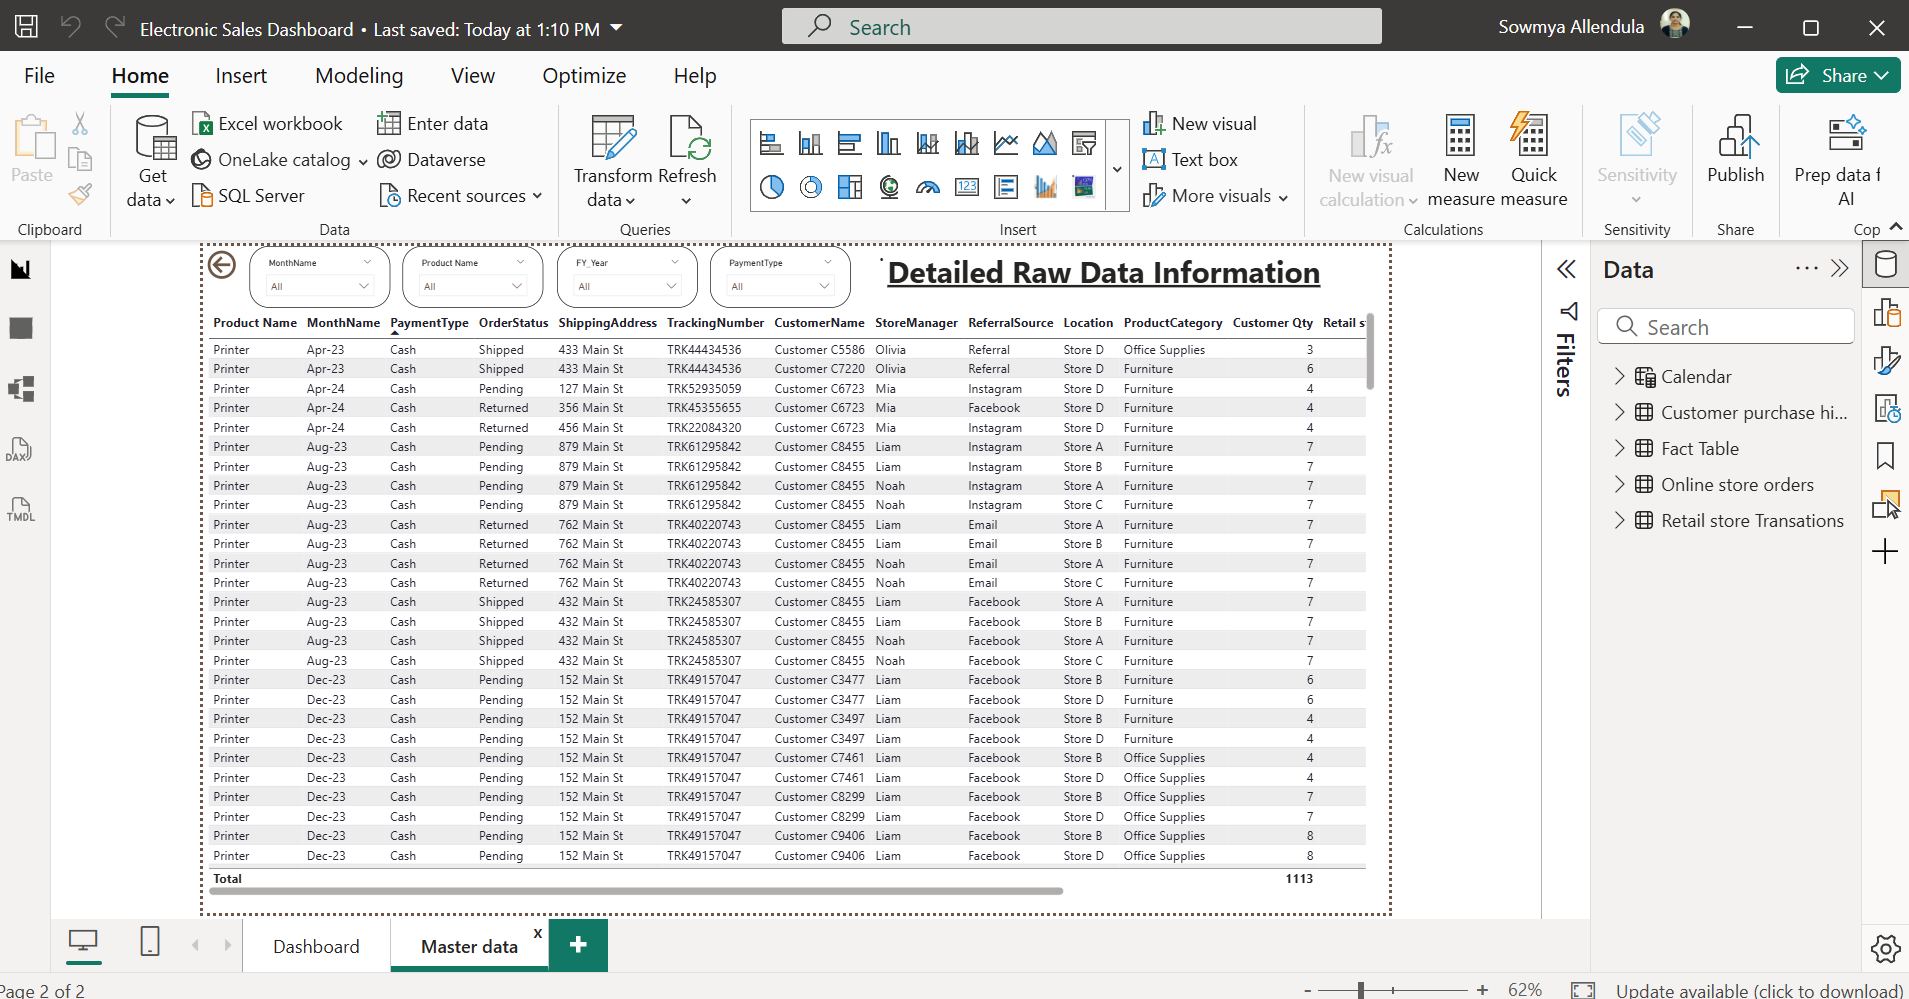

Layout of this report page (visuals, bound fields, positions):
{"tool":"powerbi","page":{"name":"Master data","canvas":[1280,720],"ordinal":1},"visuals":[{"type":"tableEx","fields":{"Values":["Fact Table.Product Name","Calendar.MonthName","Online store orders.PaymentType","Retail store Transations.OrderStatus","Retail store Transations.ShippingAddress","Retail store Transations.TrackingNumber","Customer purchase history.CustomerName","Online store orders.StoreManager","Retail store Transations.ReferralSource","Online store orders.Location","Customer purchase history.ProductCategory","Fact Table.Customer Qty"]},"box":[0,66.4,1269.5,639.6],"z":0},{"type":"actionButton","box":[0,0,100.4,40.5],"z":1000},{"type":"slicer","fields":{"Values":["Calendar.MonthName"]},"box":[50.2,0,152.2,66.4],"z":2000},{"type":"slicer","fields":{"Values":["Fact Table.Product Name"]},"box":[215.4,0,152.2,66.4],"z":3000},{"type":"slicer","fields":{"Values":["Calendar.FY_Year"]},"box":[382.1,0,152.2,66.4],"z":4000},{"type":"slicer","fields":{"Values":["Online store orders.PaymentType"]},"box":[547.3,0,152.2,66.4],"z":5000},{"type":"textbox","box":[715.7,0,553.8,66.4],"z":6000}]}

Visuals, with their boxes in screenshot pixels (x1, y1, x2, y2):
tableEx - Fact Table.Product Name x Calendar.MonthName: box(194, 43, 1870, 887)
actionButton: box(194, 0, 326, 9)
slicer - Calendar.MonthName: box(260, 0, 461, 43)
slicer - Fact Table.Product Name: box(478, 0, 679, 43)
slicer - Calendar.FY_Year: box(698, 0, 899, 43)
slicer - Online store orders.PaymentType: box(916, 0, 1117, 43)
textbox: box(1139, 0, 1870, 43)
